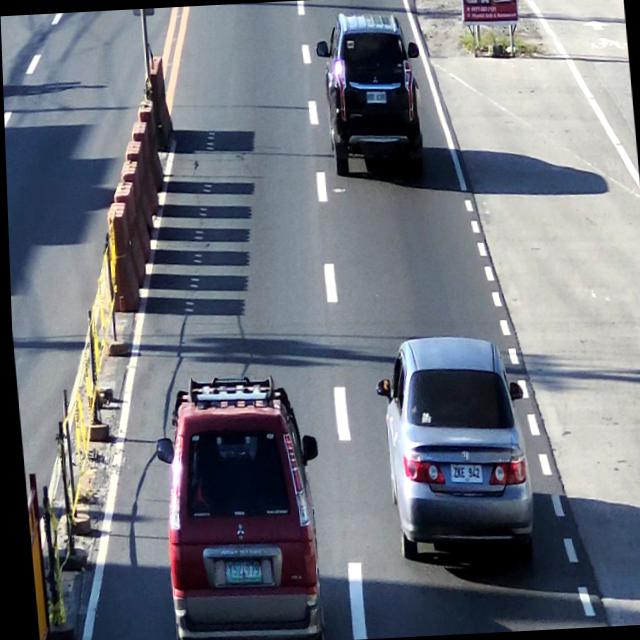Car: (152, 381, 324, 640), (376, 334, 531, 574), (318, 6, 424, 184)
License-Plate: (215, 554, 264, 592), (444, 459, 481, 484), (363, 88, 387, 106)
